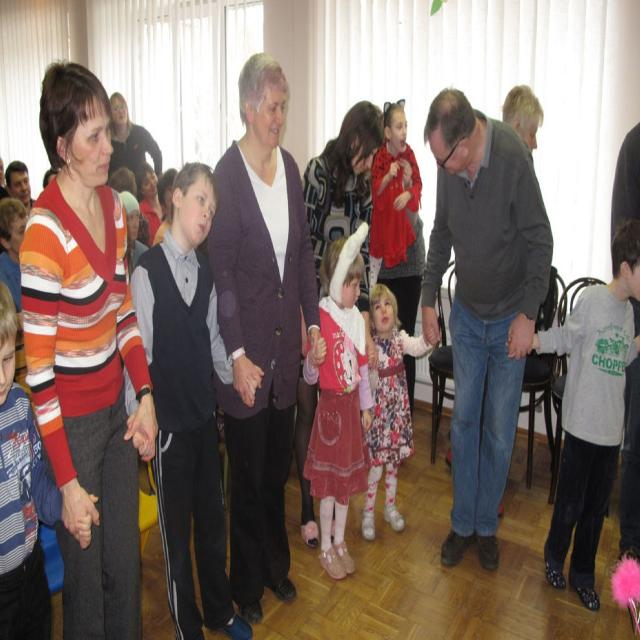body: (16, 55, 162, 639), (205, 46, 328, 622), (418, 81, 556, 580), (122, 159, 263, 640), (501, 215, 639, 615), (0, 277, 99, 639), (300, 215, 375, 582), (359, 283, 437, 542), (300, 99, 386, 311), (0, 150, 192, 228), (608, 99, 639, 570), (375, 154, 427, 424), (367, 95, 423, 303), (441, 431, 512, 537), (107, 90, 163, 204), (501, 80, 545, 156), (118, 189, 150, 281), (134, 159, 167, 248), (3, 160, 36, 212)
